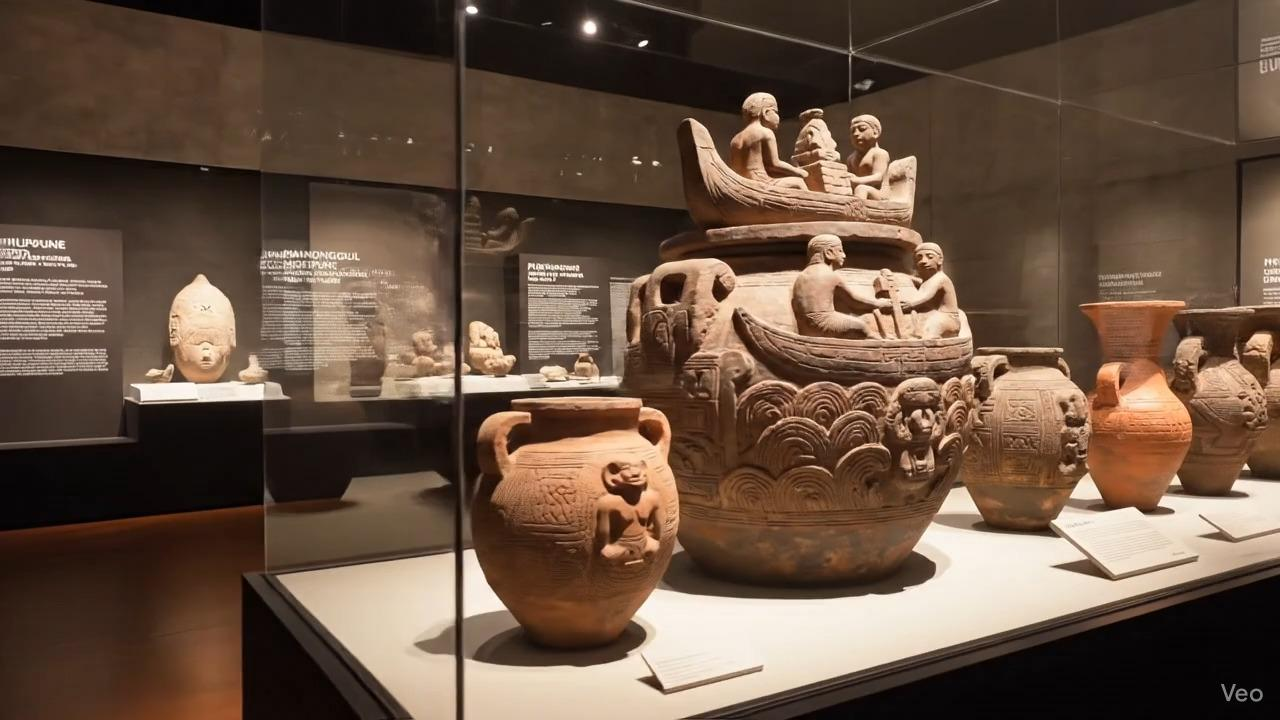manunggul_jar: (618, 71, 990, 598)
